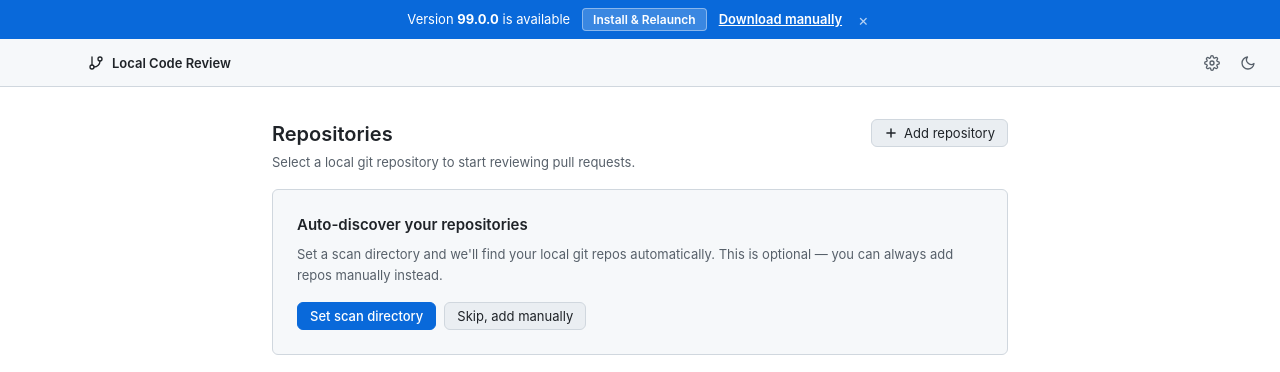
Test: periodic update check › keeps a dismissed version hidden but shows a newer one
The image size is (1280, 372).
Check: the text "99.0.0" is shown, box [457,11,499,27]
What coordinates should you click on to do the following:
click the button titled "Dismiss"
I would click on:
 (863, 20)
Its box is [854,12,873,28].
Wait 7200000 ms
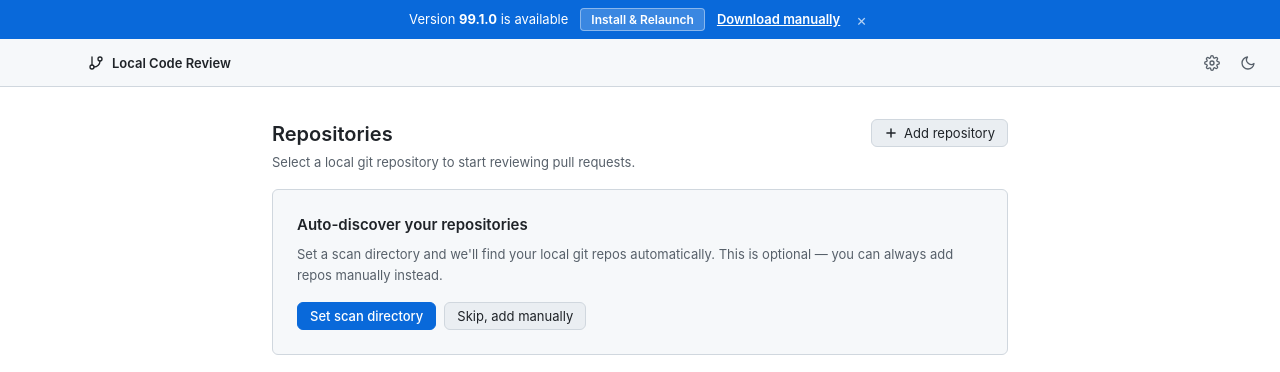
Check: the text "99.0.0" is gone
Check: the text "99.1.0" is shown, box [459,11,497,27]
